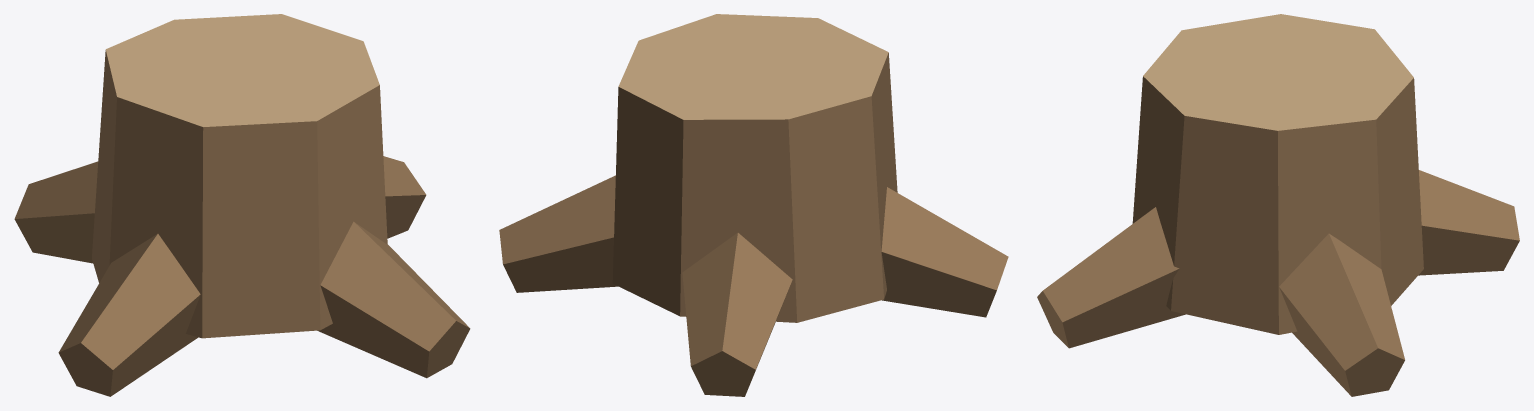
Rendered from stump.glb.
3 renders of one model, left to right at view 1: azimuth 30°, elevation 25°; view 2: azimuth 150°, elevation 25°; view 3: azimuth 270°, elevation 25°, orthographic. The views are drawn at different scales.
Parts seen in each view (by area): view 1: stump; view 2: stump; view 3: stump.
Part boxes in pixels (x1,y1,x2,y2): stump: (14, 14, 470, 396); stump: (499, 14, 1008, 396); stump: (1037, 14, 1519, 396).
Bounding box in the file's own units: 0.844 × 0.4479 × 0.844.
